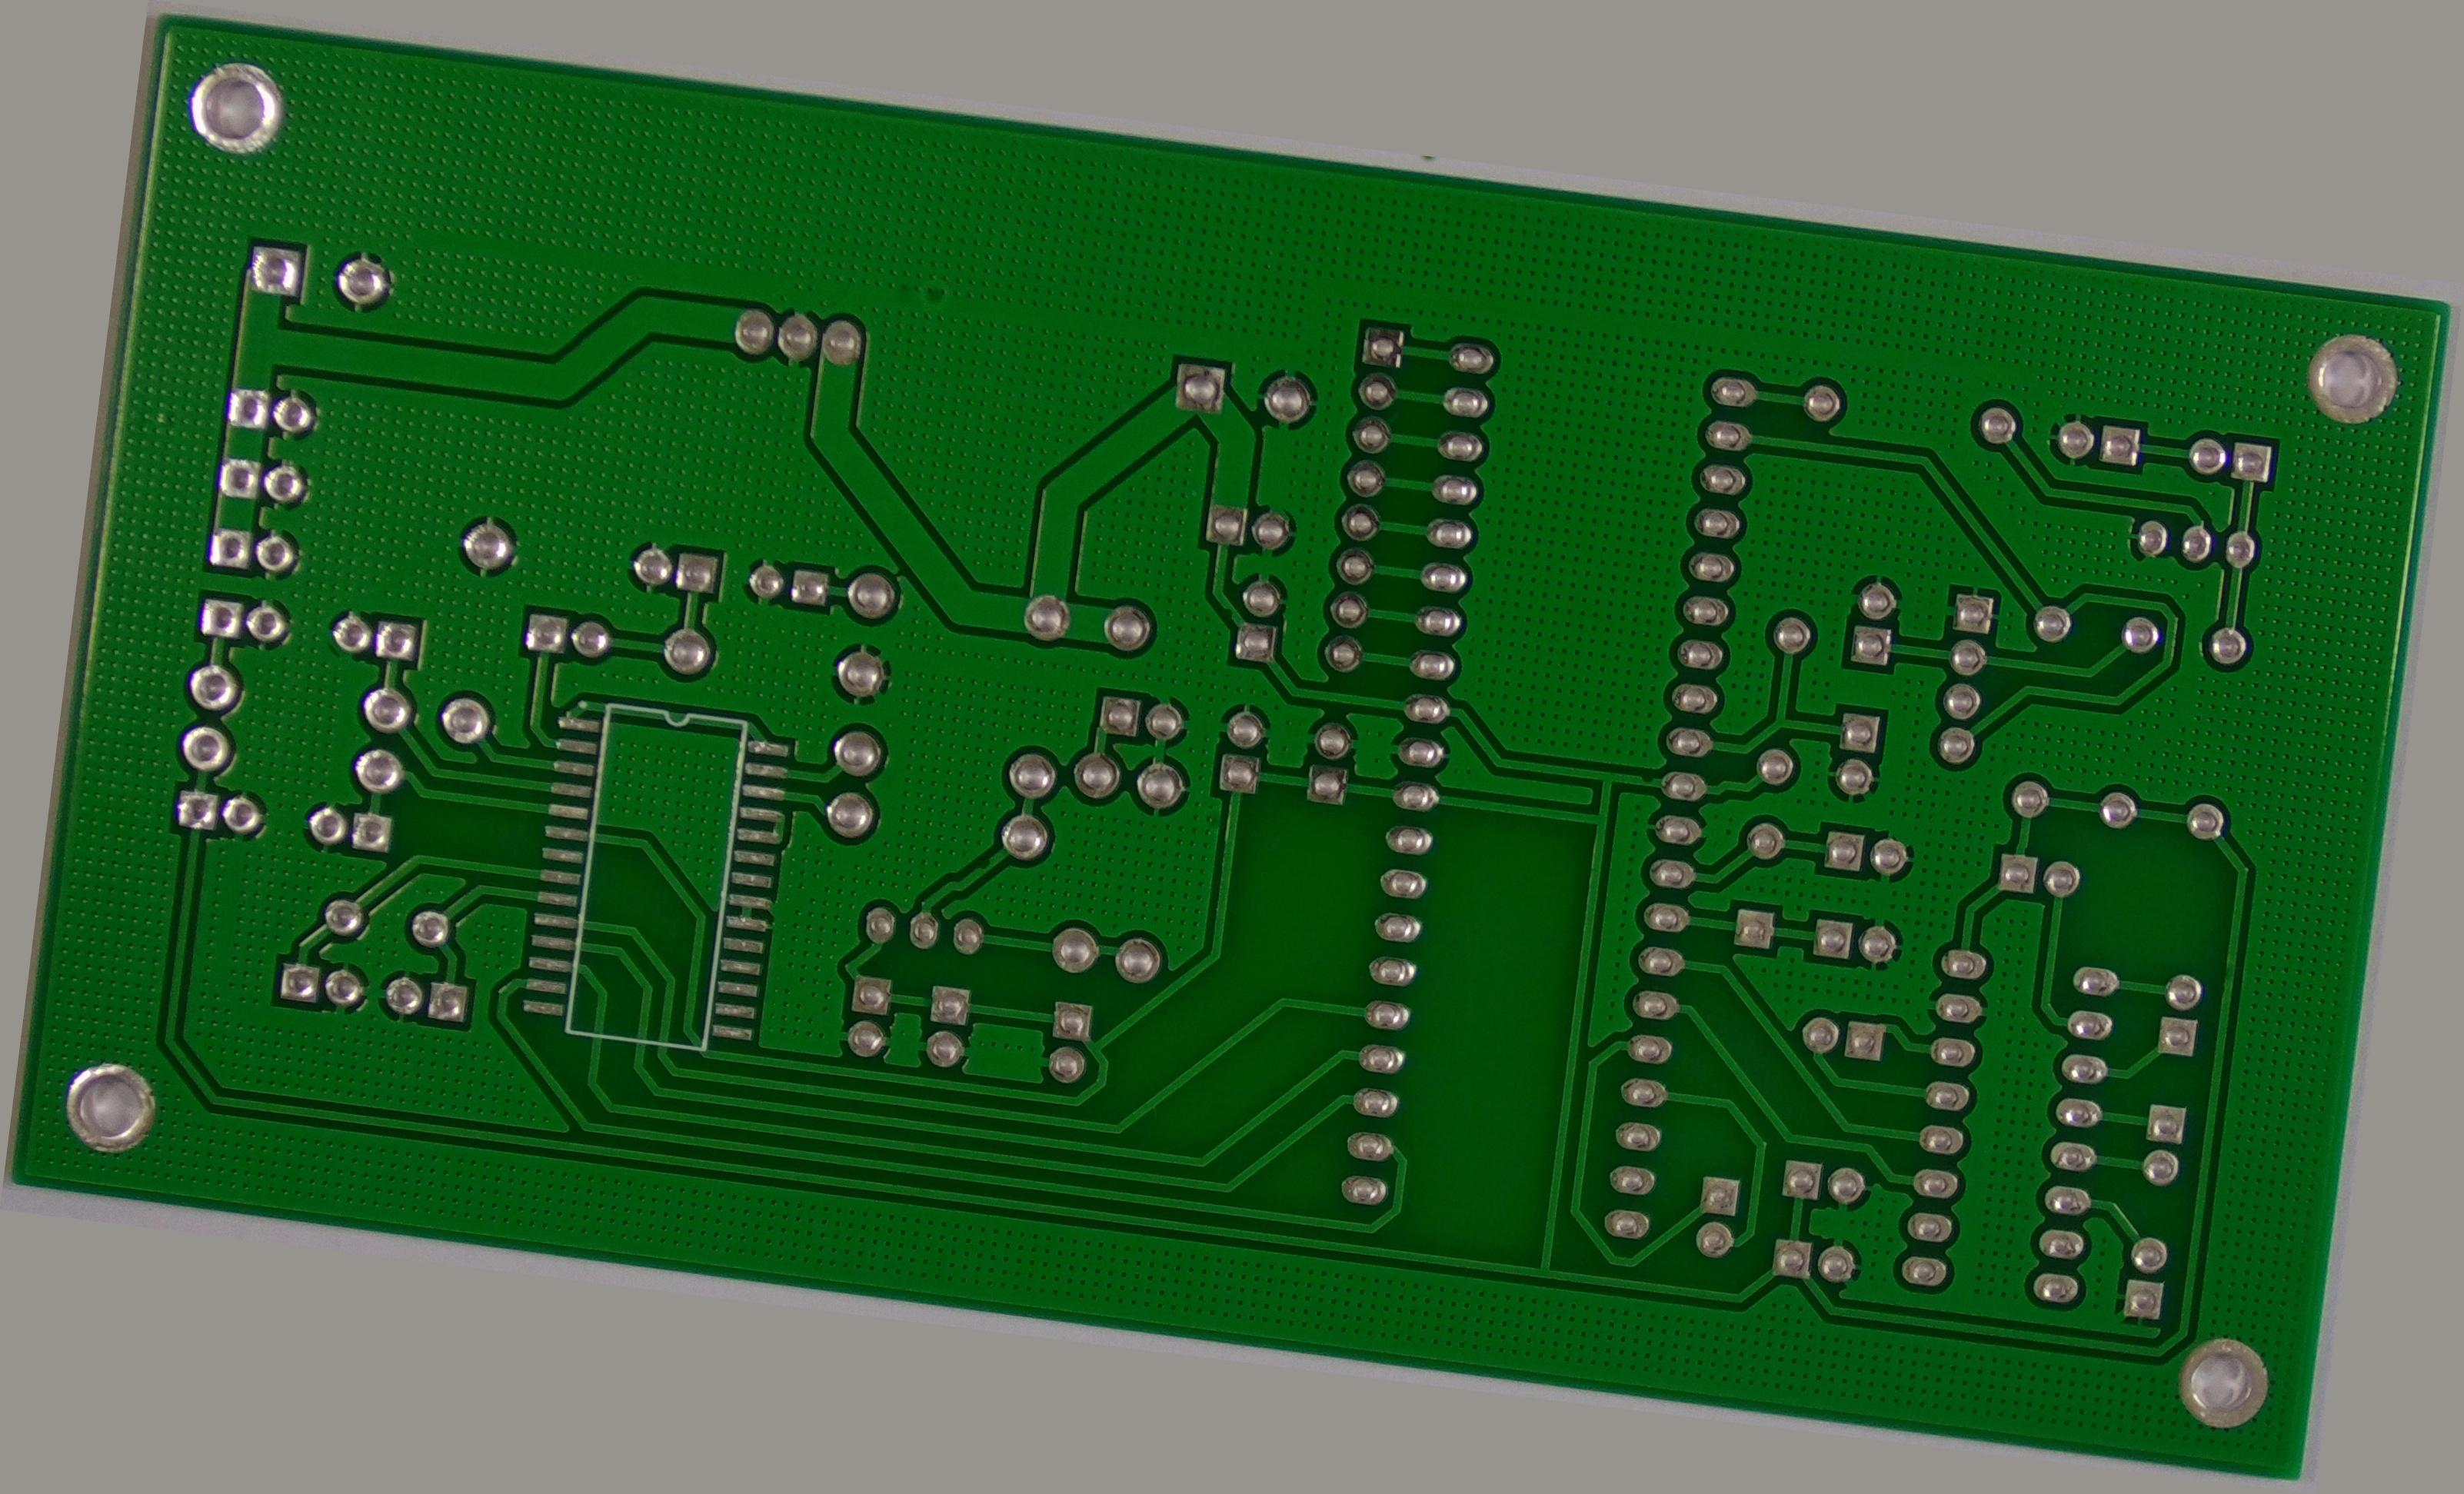mouse_bite: (973, 910, 1001, 945), (1195, 570, 1223, 602), (1658, 711, 1683, 739)
